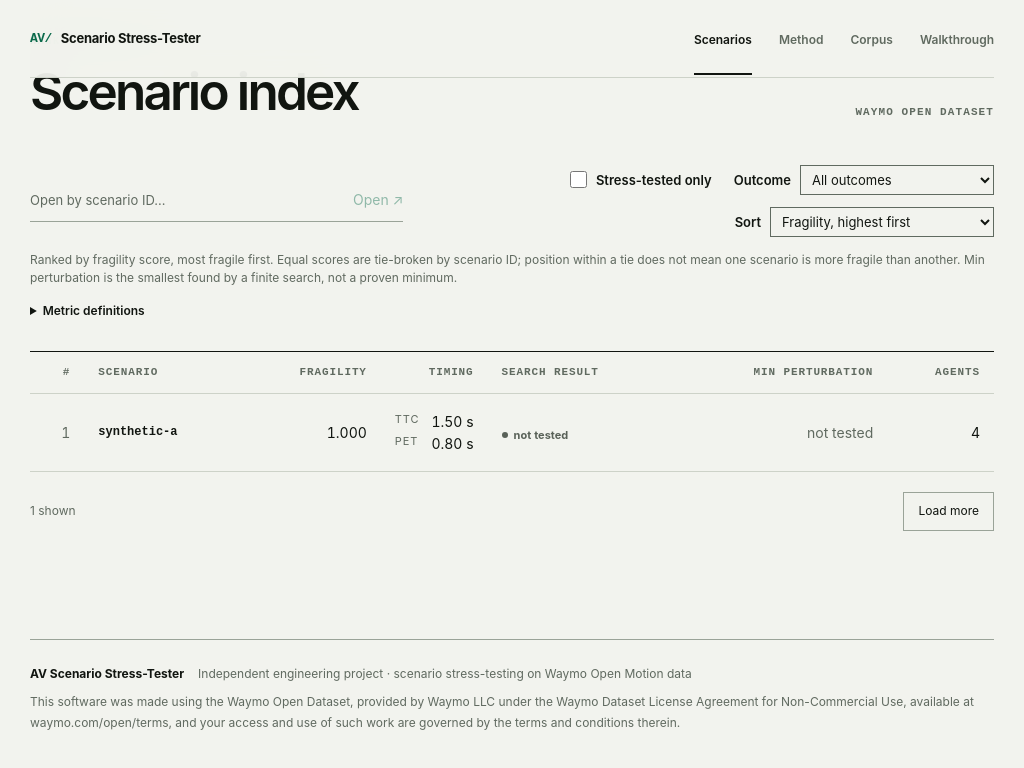
ScenarioListPage — stress_tested_only › restarts from the first page, with no cursor, when toggled
(page scrolled)
expect the link "synthetic-a" is shown: met, box [98,425,178,439]
Click the button "Load more". click: (949, 512)
box: [903,492,994,531]
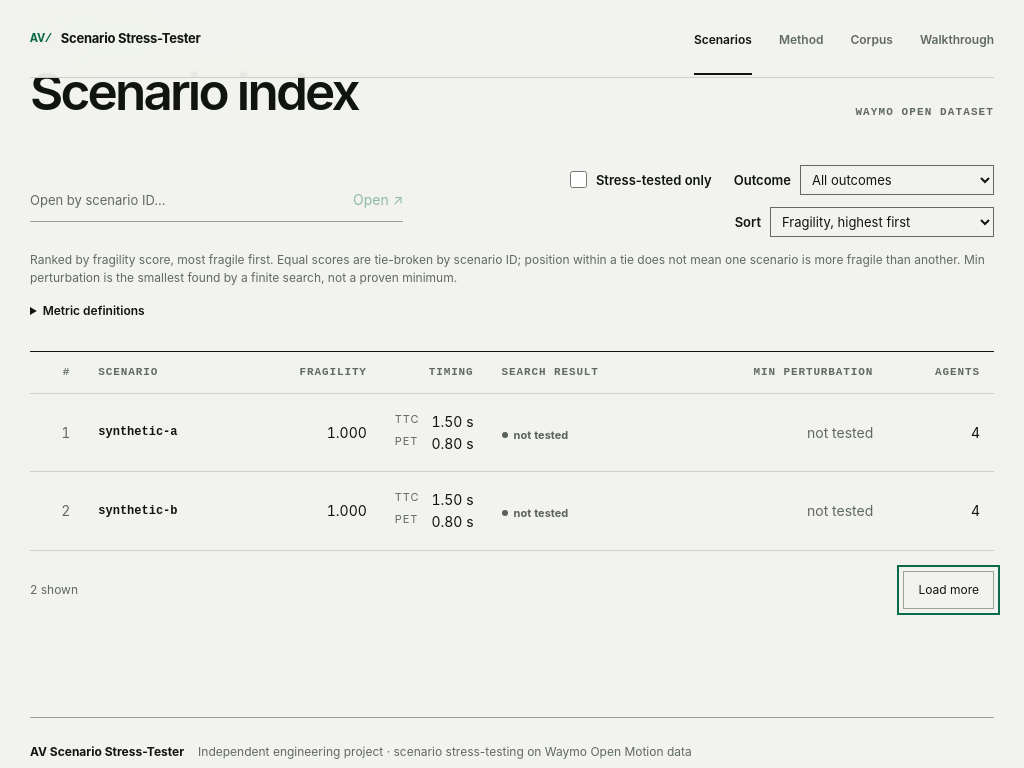
expect the link "synthetic-b" is shown: met, box [98,504,178,518]
Click the checkbox labelled "Stress-tested only". click: (578, 180)
box: [570,171,587,188]
(page scrolled)
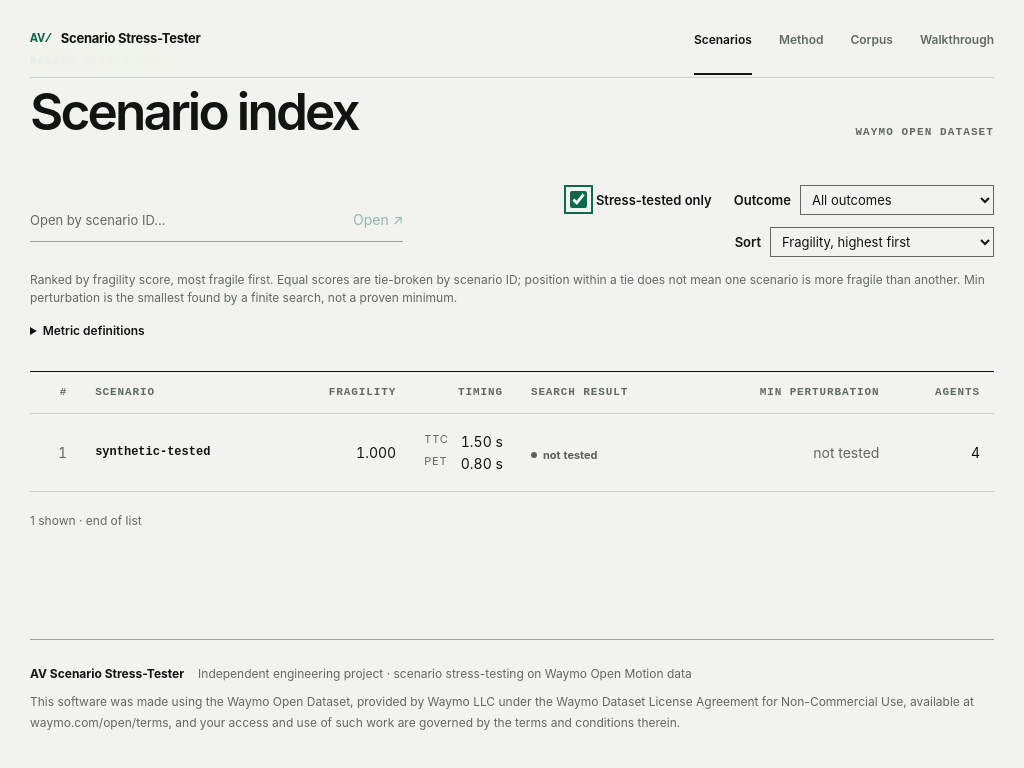
expect the link "synthetic-tested" is shown: met, box [95,445,210,459]
